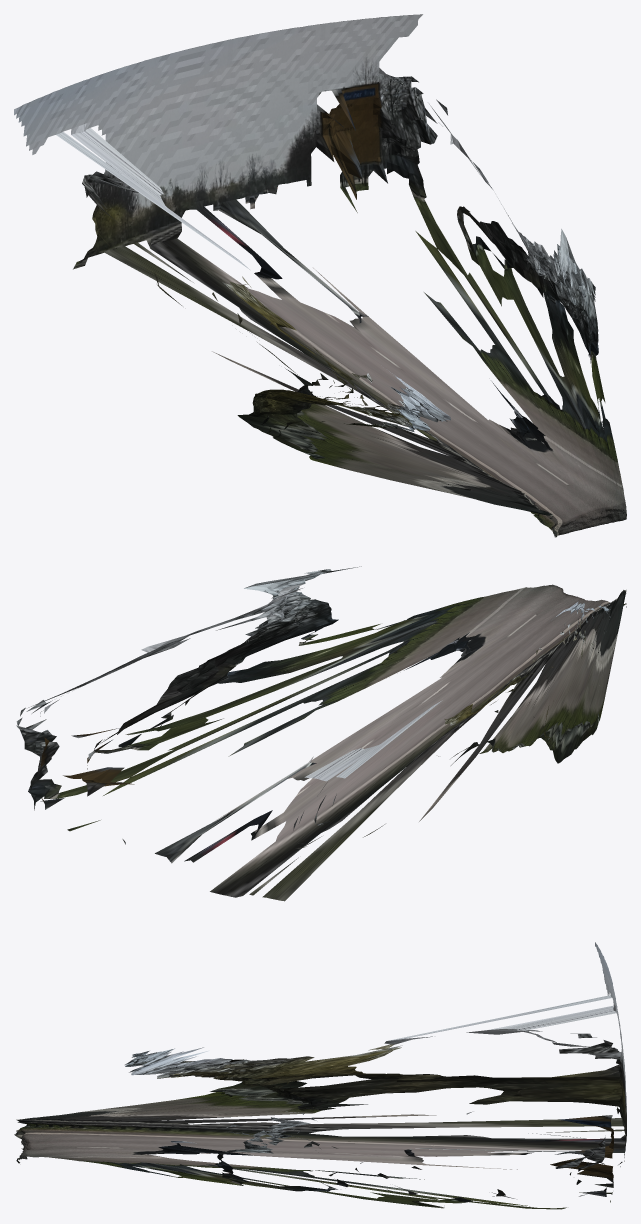
3 views of the same model, one above another, from view 1: azimuth 30°, elevation 25°; view 2: azimuth 150°, elevation 25°; view 3: azimuth 270°, elevation 25° (orthographic). The views are drawn at different scales.
Parts seen in each view (by area): view 1: defaultobject; view 2: defaultobject; view 3: defaultobject.
Boxes of the visible parts, x1,y1,x2,y2 form: defaultobject: (14,14,626,537); defaultobject: (16,566,626,901); defaultobject: (14,942,626,1209).
Size of the model in its own units: 25.97 by 11.73 by 44.75.
Materials: 1 (1 with a texture image).
